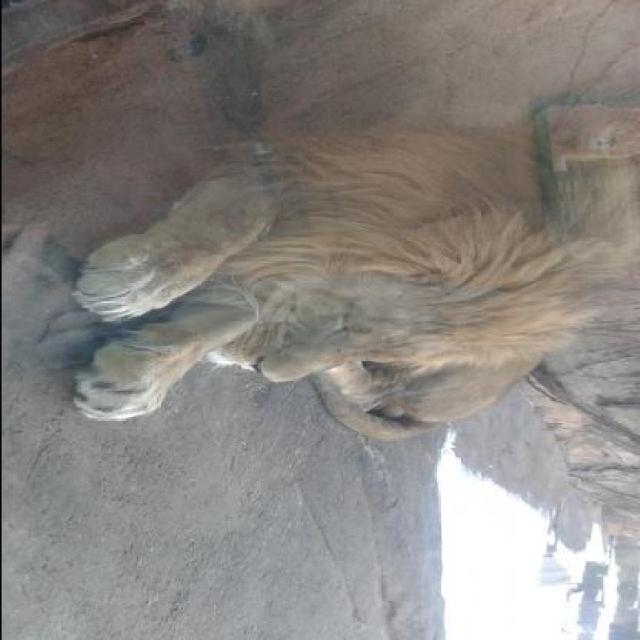Lion: (1, 82, 638, 463)
